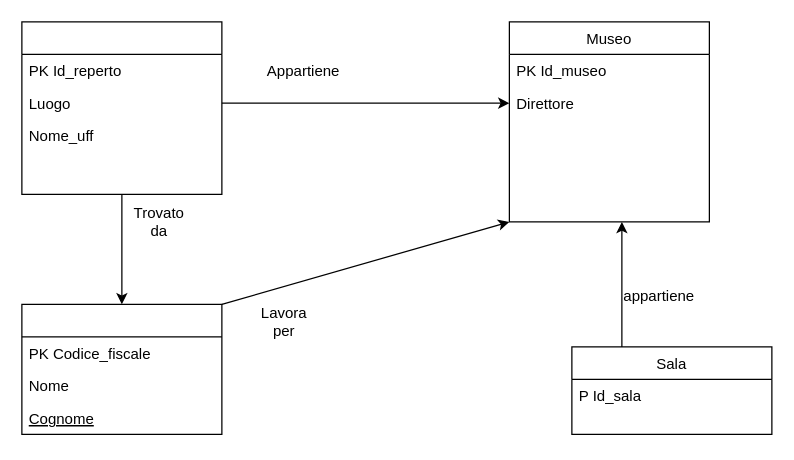
The diagram is 794 pixels wide and 460 high, and some of its shapes have lost their labels. Each missing label, with the box of its shape:
Reperto/Specie: (21, 21, 222, 194)
Ricatore: (21, 303, 222, 434)
